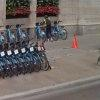Bicycle: (2, 22, 68, 72)
